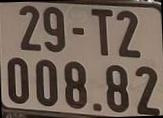-: (72, 28, 84, 35)
.: (94, 104, 101, 111)
0: (36, 58, 58, 106), (8, 57, 29, 103)
2: (136, 66, 160, 115), (117, 10, 141, 58), (20, 6, 40, 51)
8: (64, 61, 87, 109), (107, 65, 129, 112)
9: (44, 7, 66, 52)
T: (91, 8, 112, 56)
